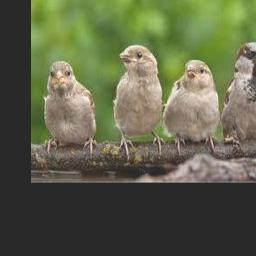Sparrow: (114, 45, 165, 158), (43, 61, 98, 158), (163, 59, 220, 149), (221, 41, 256, 150)
